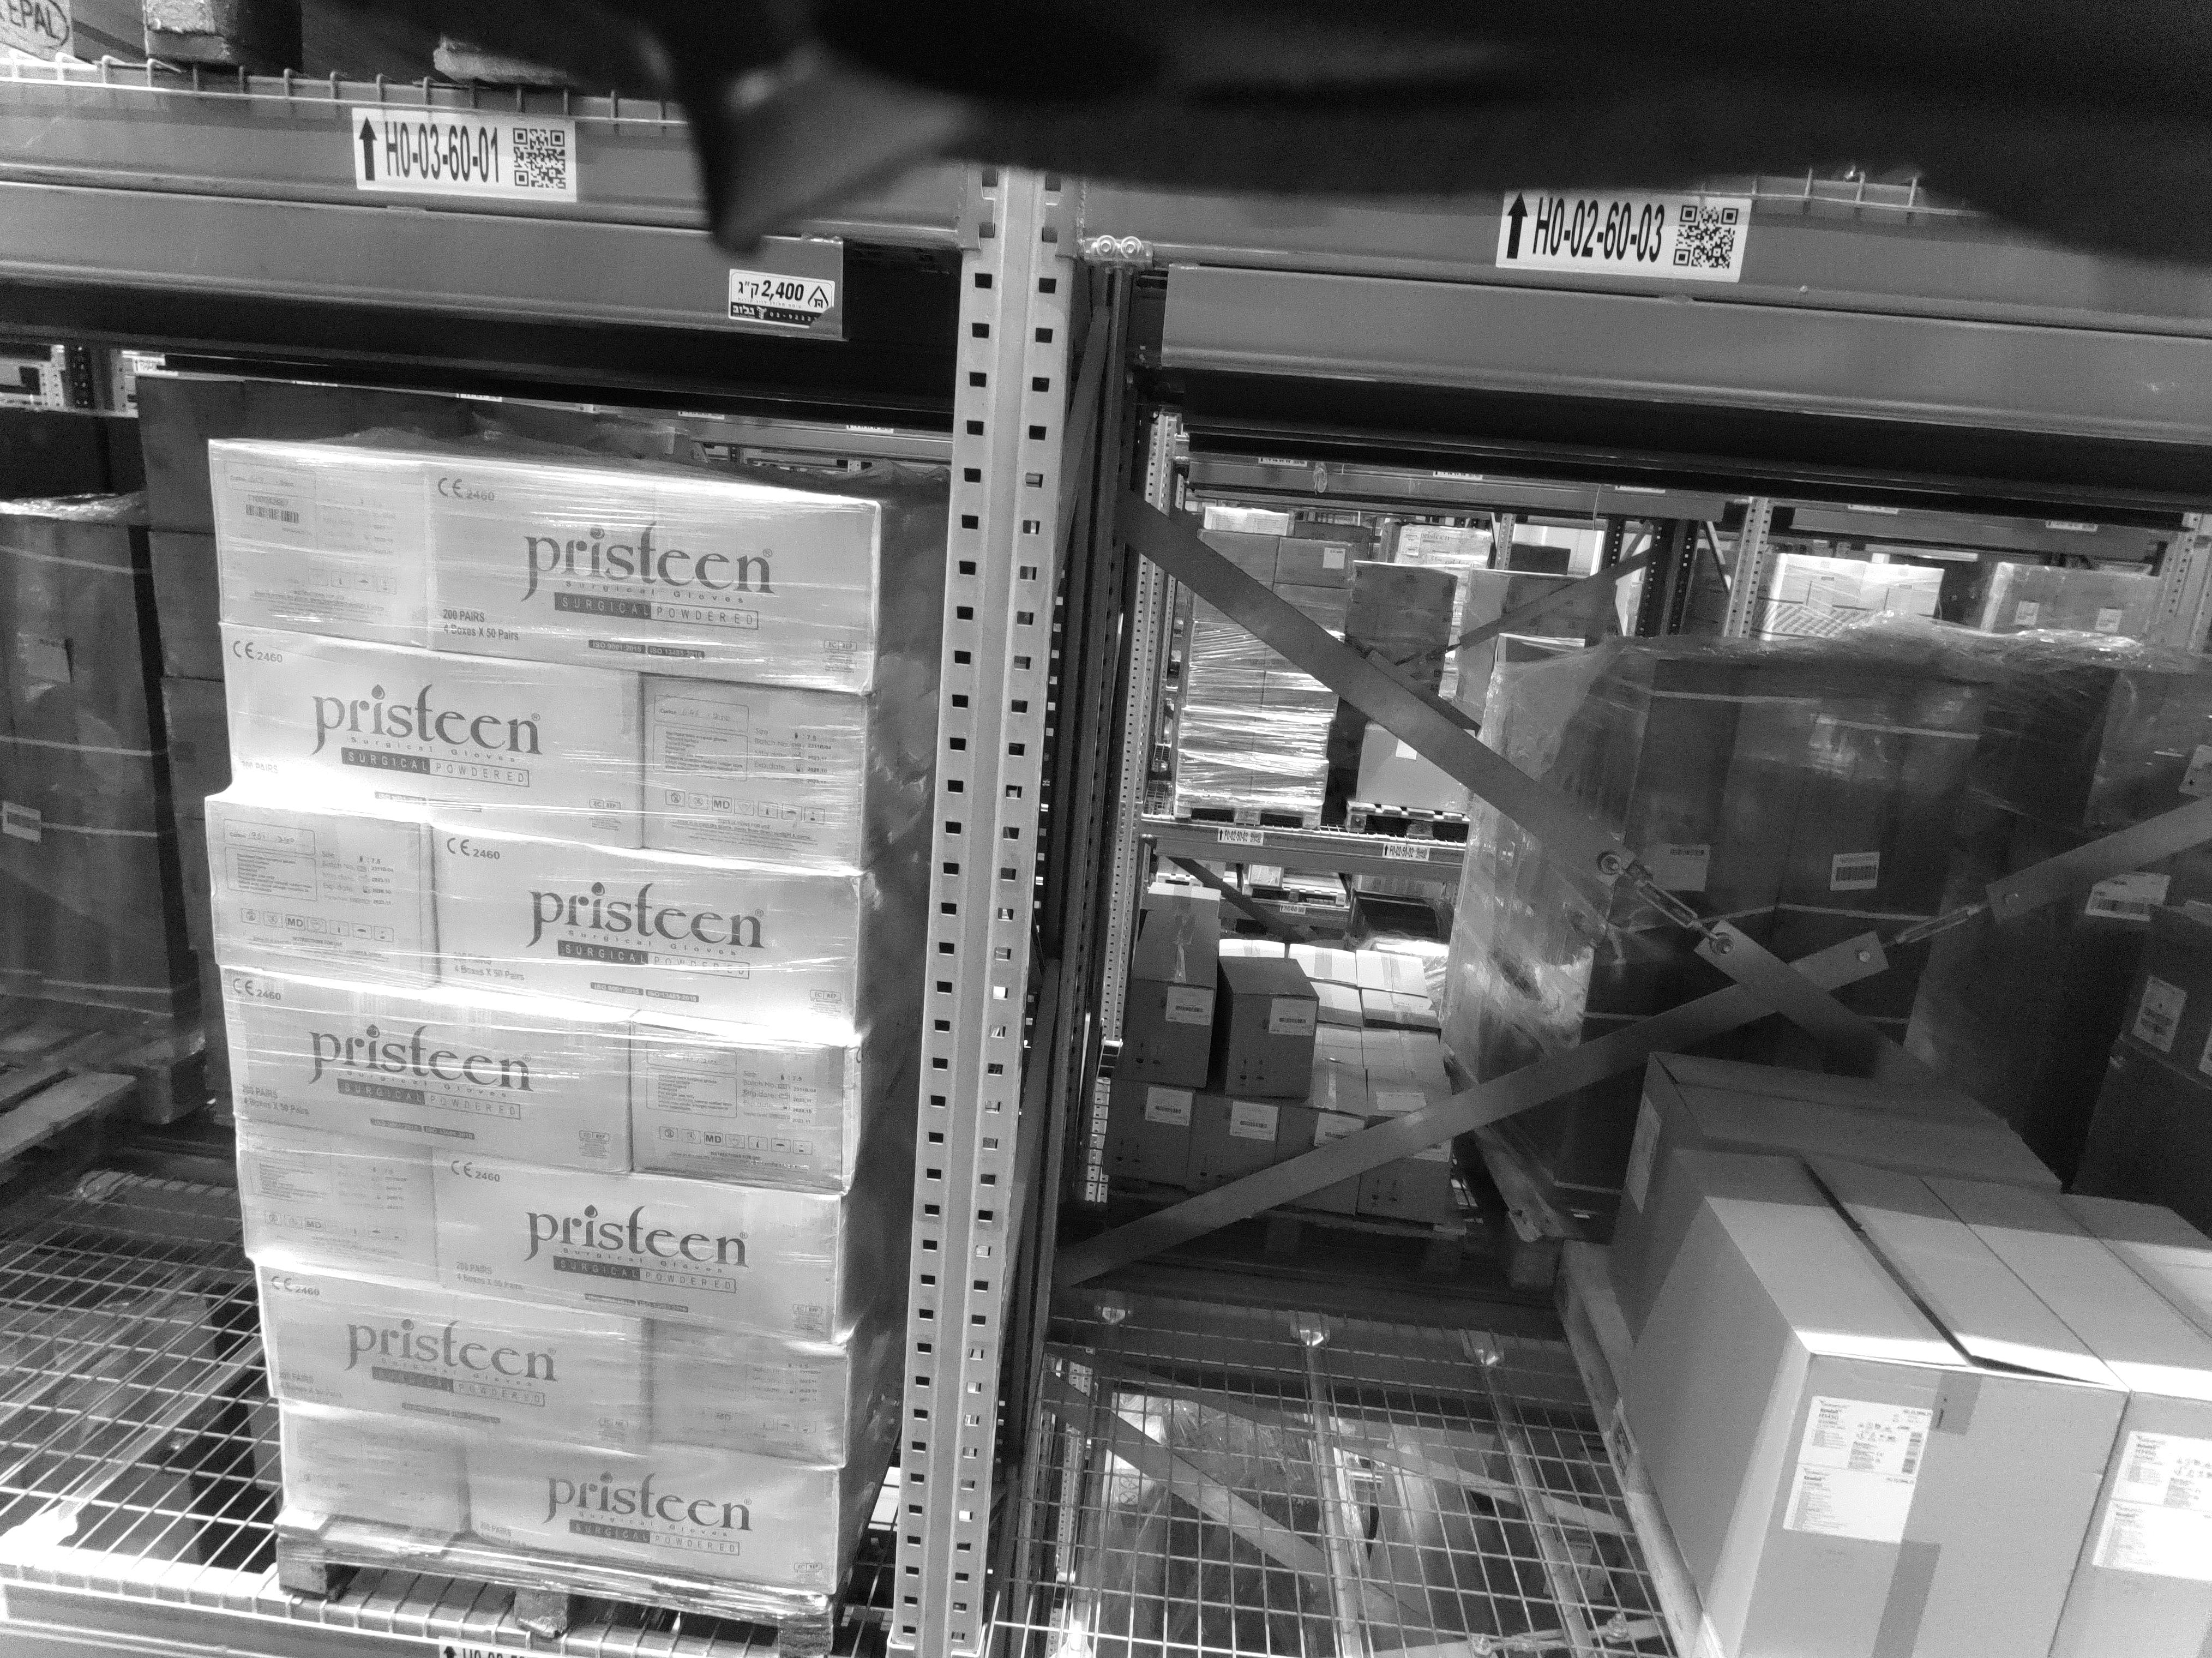empty-shelf: (1089, 414, 1613, 1658), (0, 296, 206, 1658)
